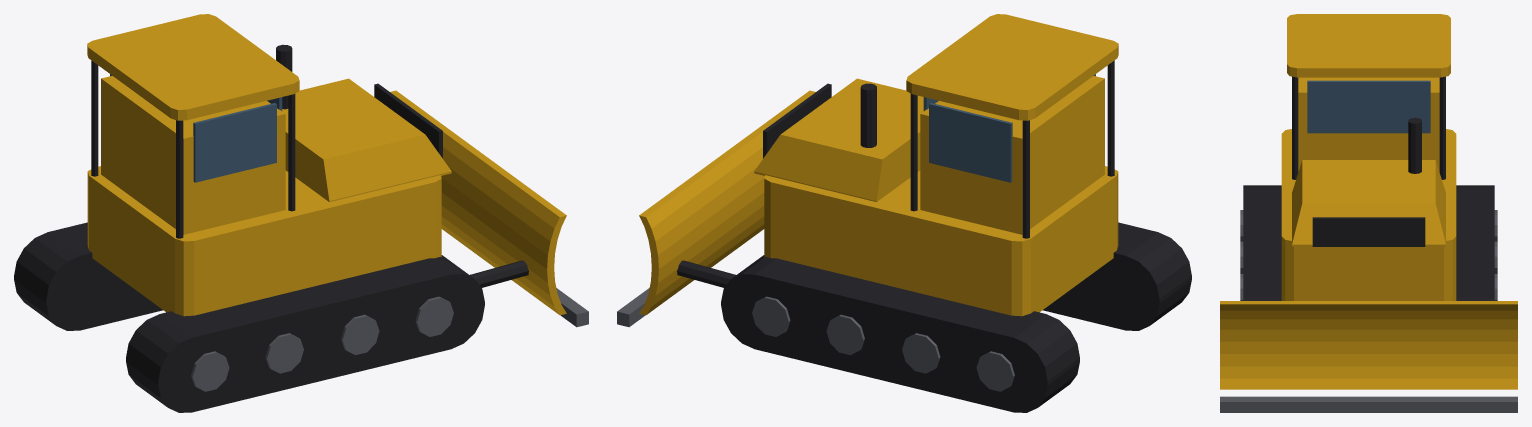
File: bulldozer.obj
3 renders of one model, left to right at view 1: azimuth 30°, elevation 25°; view 2: azimuth 150°, elevation 25°; view 3: azimuth 270°, elevation 25°, orthographic. The views are drawn at different scales.
Size of the model in its own units: 4.09 by 2.62 by 2.9.
